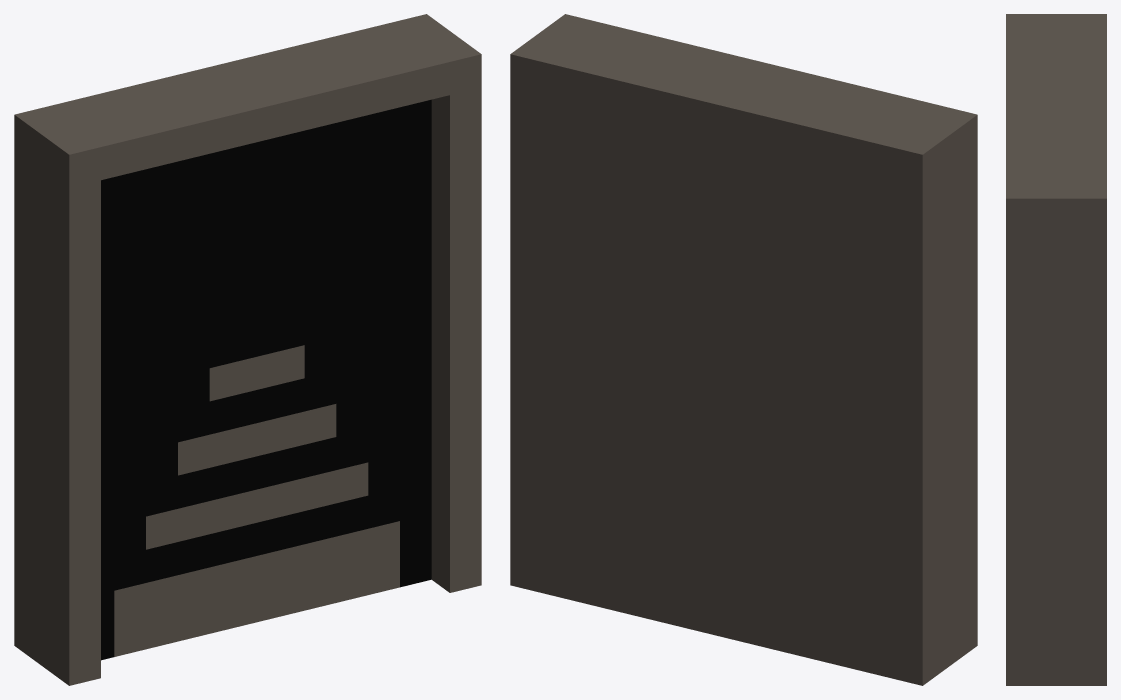
File: dungeon_a_a_entrance_c.obj
The picture shows the model from 3 angles, left to right: view 1: azimuth 30°, elevation 25°; view 2: azimuth 150°, elevation 25°; view 3: azimuth 270°, elevation 25°; orthographic projection. The views are drawn at different scales.
Size of the model in its own units: 1.3 by 1.6 by 0.3.
1 material, 1 textured.
